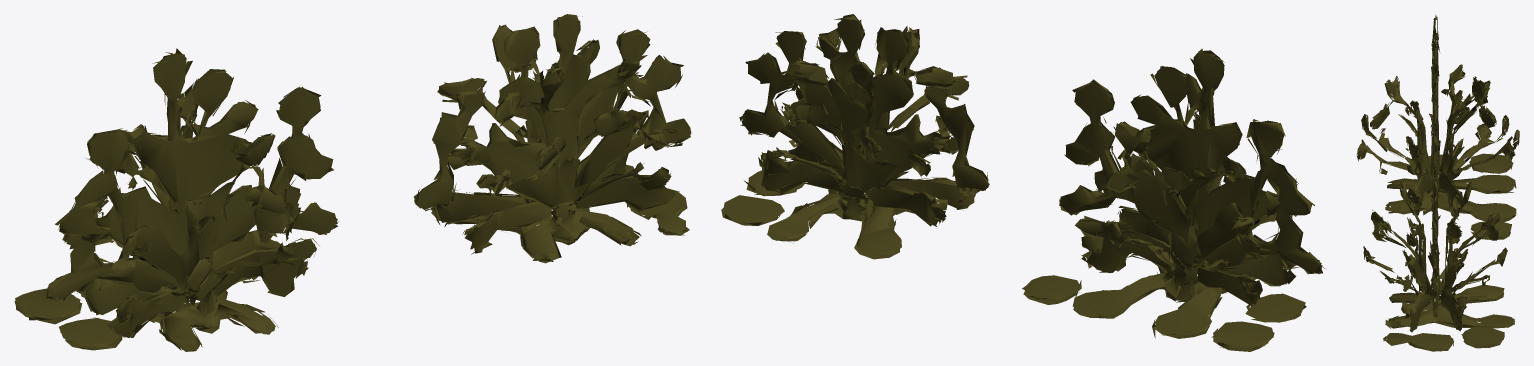
Rendered from arbusto.glb.
The picture shows the model from 3 angles, left to right: view 1: azimuth 30°, elevation 25°; view 2: azimuth 150°, elevation 25°; view 3: azimuth 270°, elevation 25°; orthographic projection. The views are drawn at different scales.
Parts seen in each view (by area): view 1: arbusto; view 2: arbusto; view 3: arbusto.
Boxes of the visible parts, x1=… form: arbusto: x1=14, y1=14, x2=691, y2=351; arbusto: x1=721, y1=14, x2=1325, y2=351; arbusto: x1=1356, y1=14, x2=1519, y2=351.
Bounding box in the file's own units: 2.23 × 0.9117 × 0.751.
Materials: 1 (1 with a texture image).
